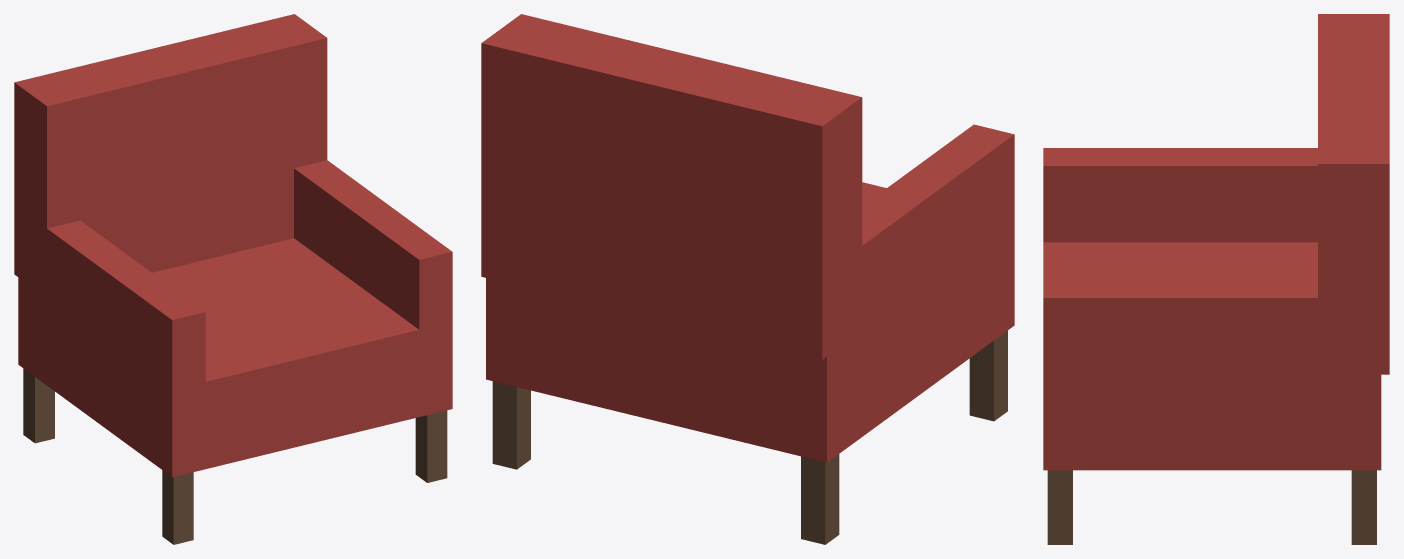
The model's file is armchair.glb.
3 renders of one model, left to right at view 1: azimuth 30°, elevation 25°; view 2: azimuth 150°, elevation 25°; view 3: azimuth 270°, elevation 25°, orthographic. The views are drawn at different scales.
Parts seen in each view (by area): view 1: armchair; view 2: armchair; view 3: armchair.
Boxes of the visible parts, x1,y1,x2,y2 form: armchair: [14, 14, 452, 544]; armchair: [481, 14, 1014, 544]; armchair: [1043, 14, 1389, 544].
Bounding box in the file's own units: 0.84 × 1 × 0.82.
